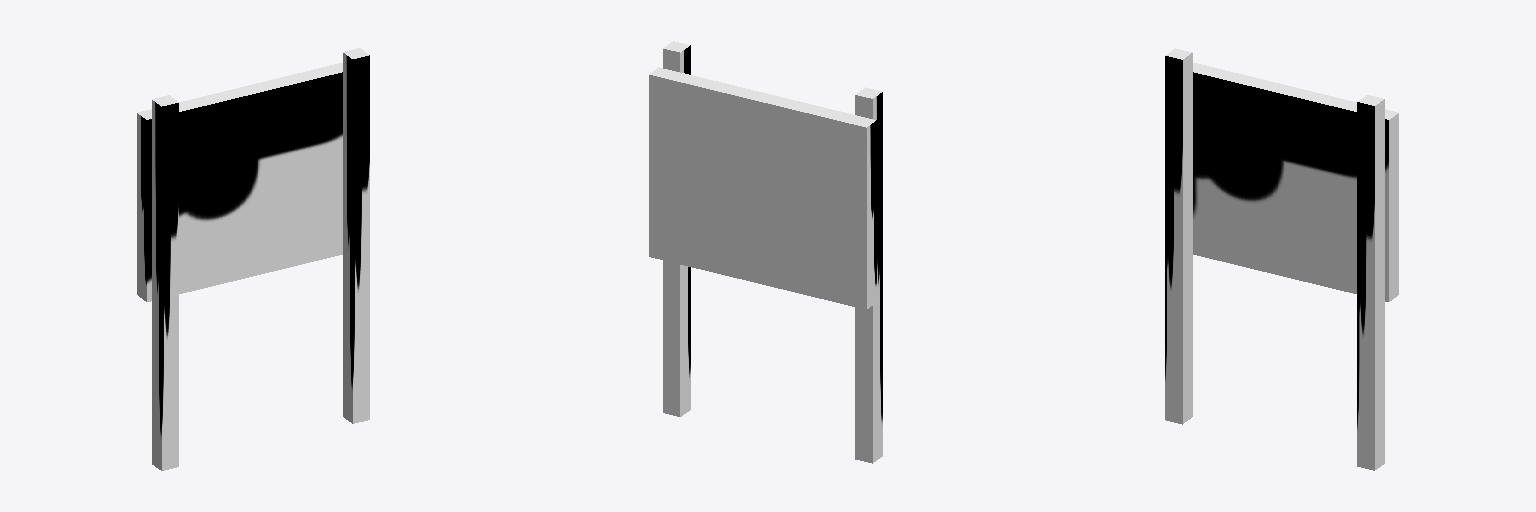
The picture shows the model from 3 angles: view 1: azimuth 30°, elevation 25°; view 2: azimuth 150°, elevation 25°; view 3: azimuth 330°, elevation 25°; orthographic projection.
Parts seen in each view (by area): view 1: 立方体; view 2: 立方体; view 3: 立方体.
Part boxes in pixels (left/top/right/bottom): 立方体: left=137, top=48, right=369, bottom=470; 立方体: left=649, top=41, right=882, bottom=463; 立方体: left=1165, top=48, right=1398, bottom=470.
Bounding box in the file's own units: 2.5 × 4 × 0.4075.
Materials: 1 (1 with a texture image).